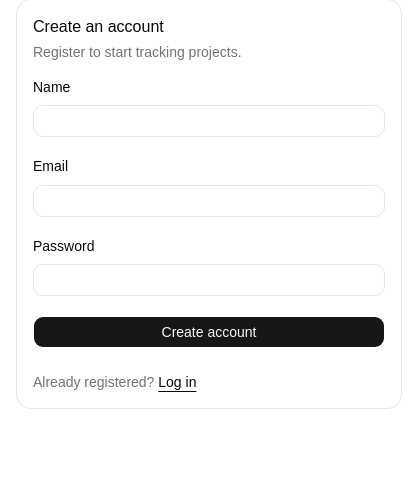
RegisterPage › shows a connection message and keeps the values when the request fails
Type "Ada" into the field labelled "Name" at coordinates (209, 121), box [33,105,385,137]
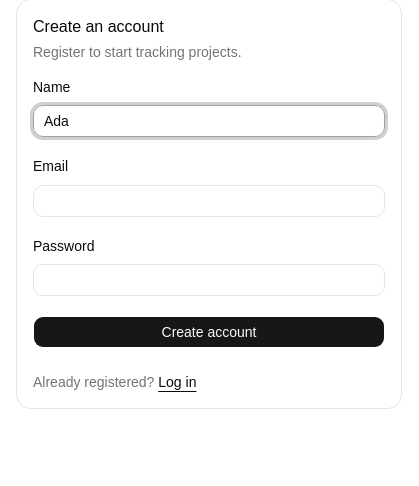
Type "ada@example.com" into the field labelled "Email" at coordinates (209, 200), box [33,184,385,216]
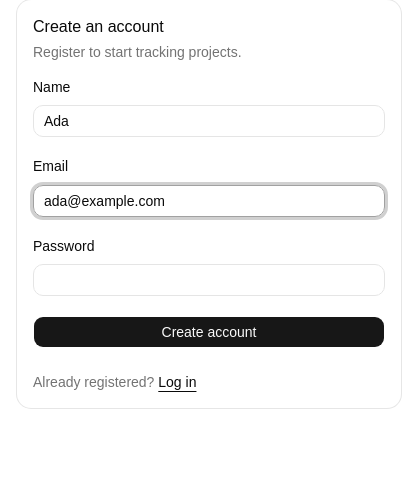
Type "correct horse" into the password field labelled "Password" at coordinates (209, 280), box [33,264,385,296]
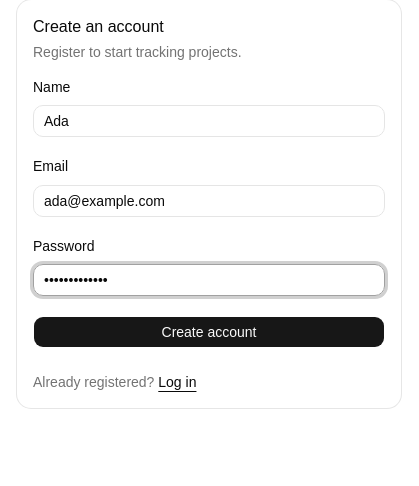
Click the button "Create account" at coordinates (209, 332), box [33,316,385,348]
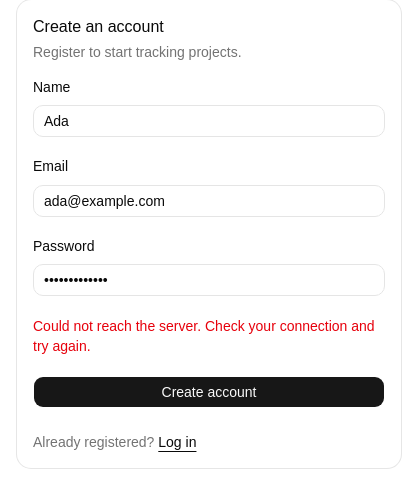
Expected: the button "Create account" is enabled, [33,376,385,408]
Now the text "Could not reach the server. Check your connection and try again." is shown, box [33,316,385,356]
